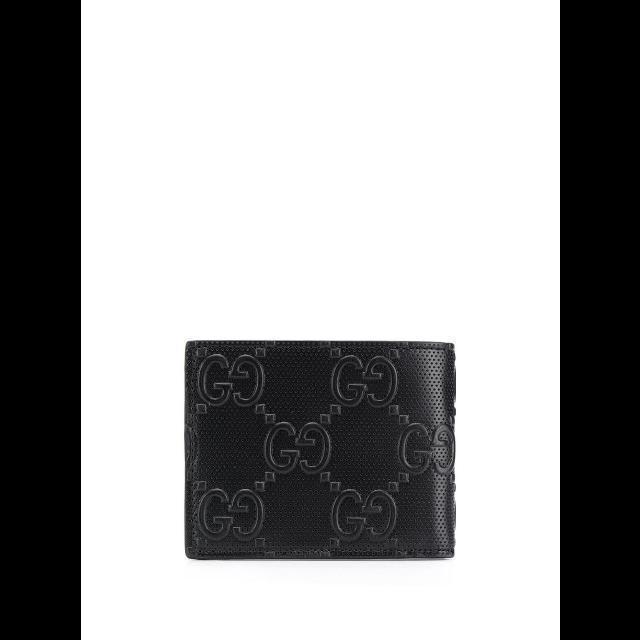wallet: (175, 330, 465, 576)
